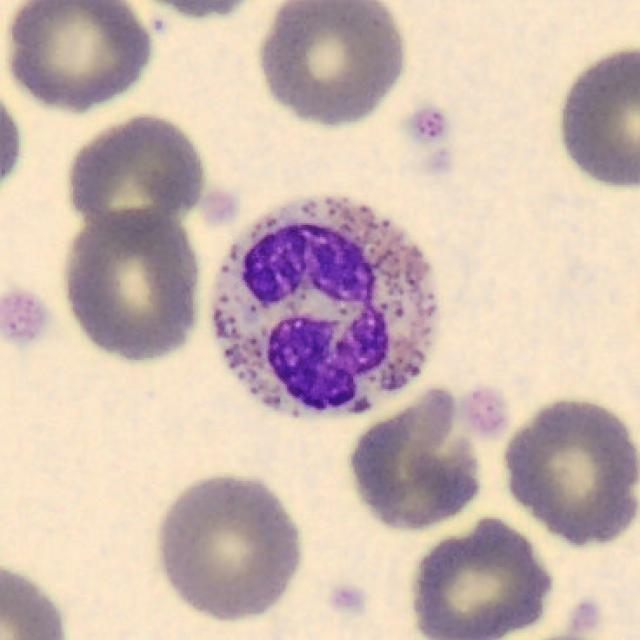Neutrofilo segmentado: (210, 195, 440, 420)
